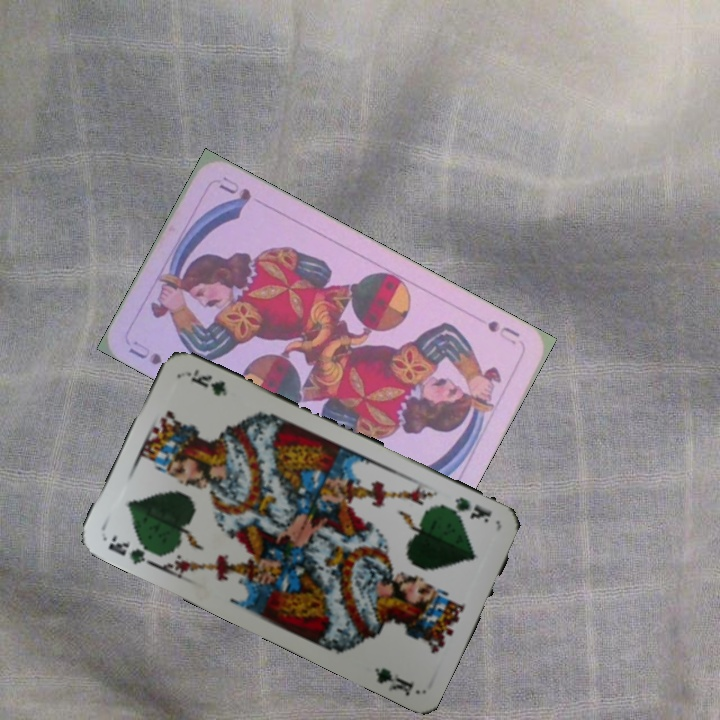GK: (104, 531, 159, 568), (440, 493, 495, 526)
SU: (124, 337, 165, 368), (483, 316, 522, 348)
